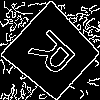R: (26, 27, 86, 85)
